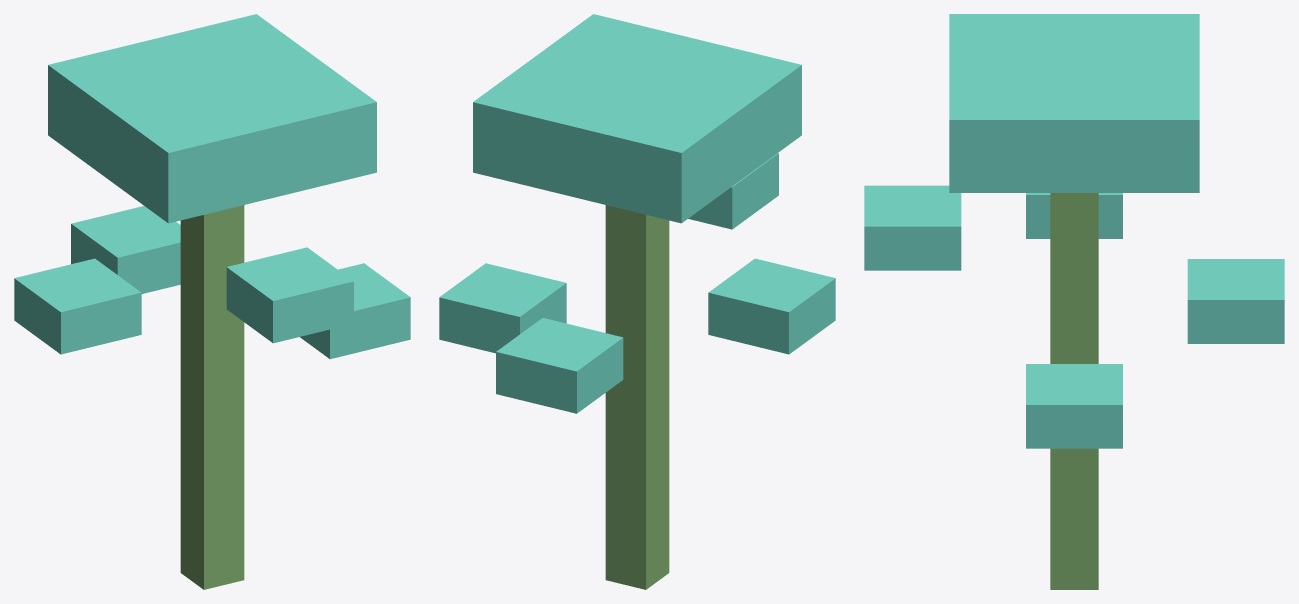
File: Prop_DS_Herb_ChecksumClover_S3.glb
3 renders of one model, left to right at view 1: azimuth 30°, elevation 25°; view 2: azimuth 150°, elevation 25°; view 3: azimuth 270°, elevation 25°, orthographic. The views are drawn at different scales.
Parts seen in each view (by area): view 1: Cube.005, Cube, Cube.003, Cube.004, Cube.002, Cube.001; view 2: Cube.005, Cube, Cube.003, Cube.002, Cube.001, Cube.004; view 3: Cube.005, Cube, Cube.004, Cube.002, Cube.001, Cube.003.
Boxes of the visible parts, <box> form: Cube.005: <box>48,14,376,223</box>; Cube: <box>180,205,244,589</box>; Cube.003: <box>14,258,141,354</box>; Cube.004: <box>226,247,353,343</box>; Cube.002: <box>71,206,180,293</box>; Cube.001: <box>300,263,410,359</box>; Cube.005: <box>473,14,801,223</box>; Cube: <box>605,205,669,589</box>; Cube.003: <box>708,258,835,354</box>; Cube.002: <box>496,318,623,413</box>; Cube.001: <box>439,263,566,353</box>; Cube.004: <box>688,153,778,229</box>; Cube.005: <box>949,14,1199,192</box>; Cube: <box>1050,193,1098,589</box>; Cube.004: <box>864,185,961,270</box>; Cube.002: <box>1187,259,1284,343</box>; Cube.001: <box>1026,364,1122,448</box>; Cube.003: <box>1026,193,1122,238</box>.
Size of the model in its own units: 0.52 by 0.7 by 0.52.
